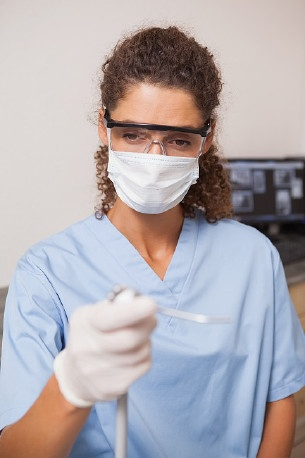Mask: (104, 114, 201, 212)
